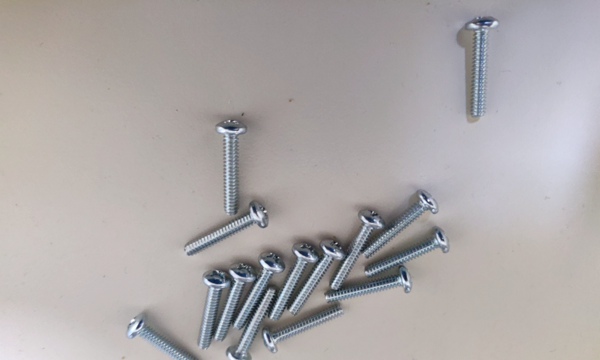longscrew: (363, 189, 440, 261), (362, 230, 449, 281), (184, 205, 268, 257), (267, 304, 348, 356), (233, 252, 285, 331), (330, 215, 384, 290), (291, 240, 345, 314), (269, 240, 317, 323), (324, 269, 416, 309), (212, 115, 246, 219), (229, 289, 277, 360), (467, 16, 499, 118), (126, 319, 204, 360), (216, 264, 254, 344), (191, 270, 227, 351)
